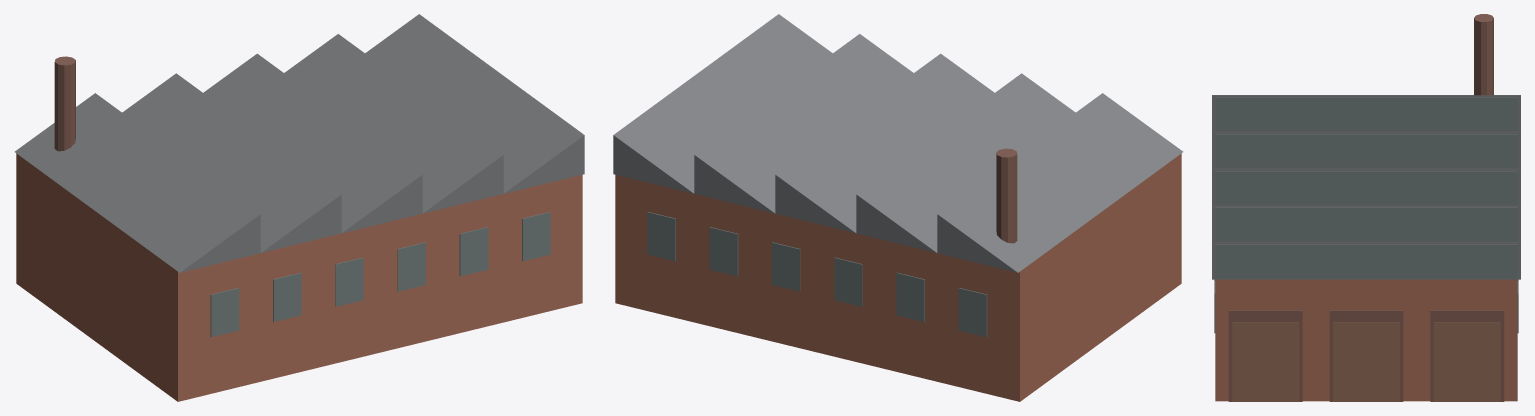
File: EngineShed.glb
3 views of the same model, side by side, from view 1: azimuth 30°, elevation 25°; view 2: azimuth 150°, elevation 25°; view 3: azimuth 270°, elevation 25° (orthographic). The views are drawn at different scales.
Visible parts, largest first — view 1: Shed, Sawtooth, Sawtooth.002, Sawtooth.003, Sawtooth.001, Sawtooth.004, Shed chimney, Window.004, Window, Window.002, Window.003, Window.005 (+1 smaller); view 2: Shed, Sawtooth, Sawtooth.002, Sawtooth.003, Sawtooth.004, Sawtooth.001, Shed chimney, Window.010, Window.006, Window.008, Window.009, Window.011 (+1 smaller); view 3: Shed, North light.003, North light.004, North light, North light.001, North light.002, Door leaf, Door leaf.002, Door leaf.001, Sawtooth.004, Arch door, Arch door.002 (+6 smaller).
Part boxes in pixels (left/top/right/bottom): Shed: left=16, top=153, right=582, bottom=401; Sawtooth: left=14, top=93, right=260, bottom=272; Sawtooth.002: left=203, top=53, right=422, bottom=233; Sawtooth.003: left=284, top=34, right=503, bottom=213; Sawtooth.001: left=122, top=73, right=341, bottom=252; Sawtooth.004: left=365, top=14, right=584, bottom=193; Shed chimney: left=54, top=56, right=75, bottom=151; Window.004: left=459, top=227, right=488, bottom=276; Window: left=210, top=288, right=239, bottom=337; Window.002: left=335, top=257, right=363, bottom=306; Window.003: left=397, top=242, right=425, bottom=291; Window.005: left=522, top=212, right=550, bottom=261; Shed: left=615, top=153, right=1181, bottom=401; Sawtooth: left=937, top=93, right=1183, bottom=272; Sawtooth.002: left=775, top=53, right=994, bottom=233; Sawtooth.003: left=694, top=34, right=913, bottom=213; Sawtooth.004: left=613, top=14, right=832, bottom=193; Sawtooth.001: left=856, top=73, right=1075, bottom=252; Shed chimney: left=996, top=148, right=1017, bottom=243; Window.010: left=709, top=227, right=738, bottom=276; Window.006: left=958, top=288, right=987, bottom=337; Window.008: left=834, top=257, right=862, bottom=306; Window.009: left=772, top=242, right=800, bottom=291; Window.011: left=647, top=212, right=675, bottom=261; Shed: left=1215, top=279, right=1517, bottom=401; North light.003: left=1215, top=207, right=1517, bottom=241; North light.004: left=1215, top=244, right=1517, bottom=278; North light: left=1215, top=97, right=1517, bottom=130; North light.001: left=1215, top=134, right=1517, bottom=167; North light.002: left=1215, top=171, right=1517, bottom=204; Door leaf: left=1232, top=322, right=1299, bottom=401; Door leaf.002: left=1433, top=322, right=1500, bottom=401; Door leaf.001: left=1333, top=322, right=1399, bottom=401; Sawtooth.004: left=1212, top=242, right=1520, bottom=279; Arch door: left=1228, top=310, right=1302, bottom=401; Arch door.002: left=1430, top=310, right=1504, bottom=401.
Size of the model in its own units: 26.09 by 14 by 18.4.
